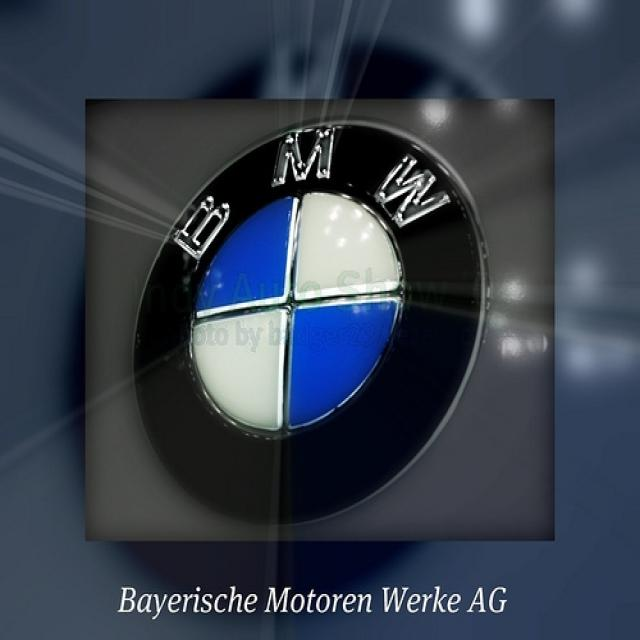bmw: (129, 120, 493, 533)
